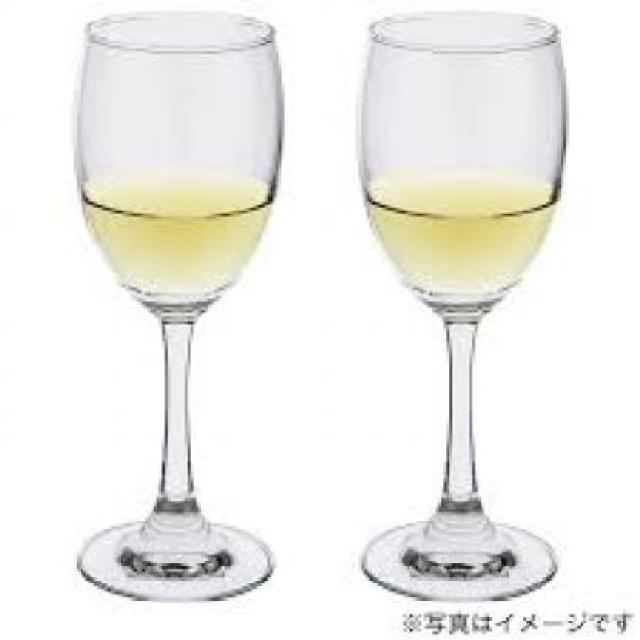kaca: (70, 9, 284, 597), (355, 6, 563, 600)
